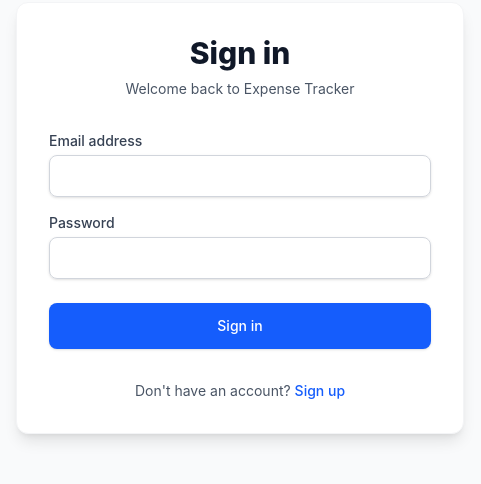
Test case: Login Component › shows error for invalid email format
Type "invalid-email" into the field labelled "Email address" at {"x": 240, "y": 176}, box x1=49 y1=155 x2=431 y2=197
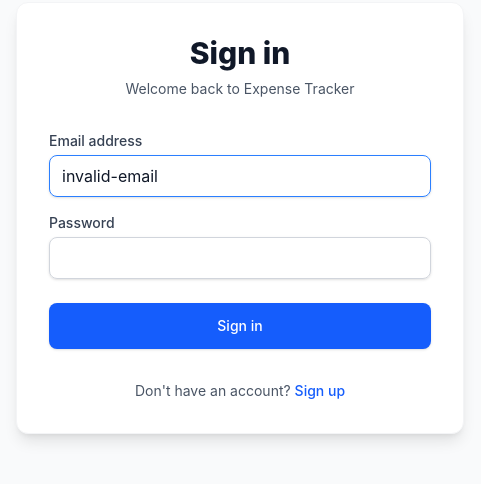
Click the button "Sign in" at {"x": 240, "y": 326}, box x1=49 y1=303 x2=431 y2=349
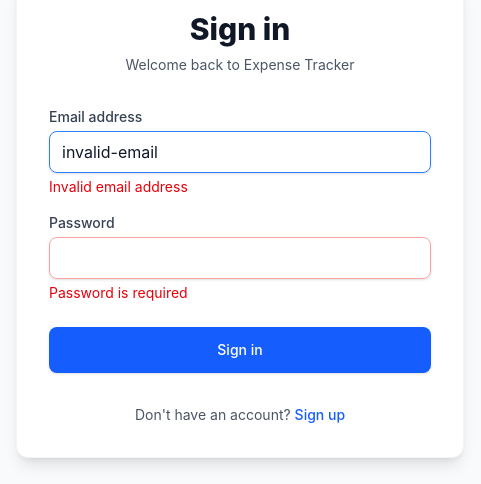
Expected: the text "Invalid email address" is shown, x1=49 y1=178 x2=188 y2=195
